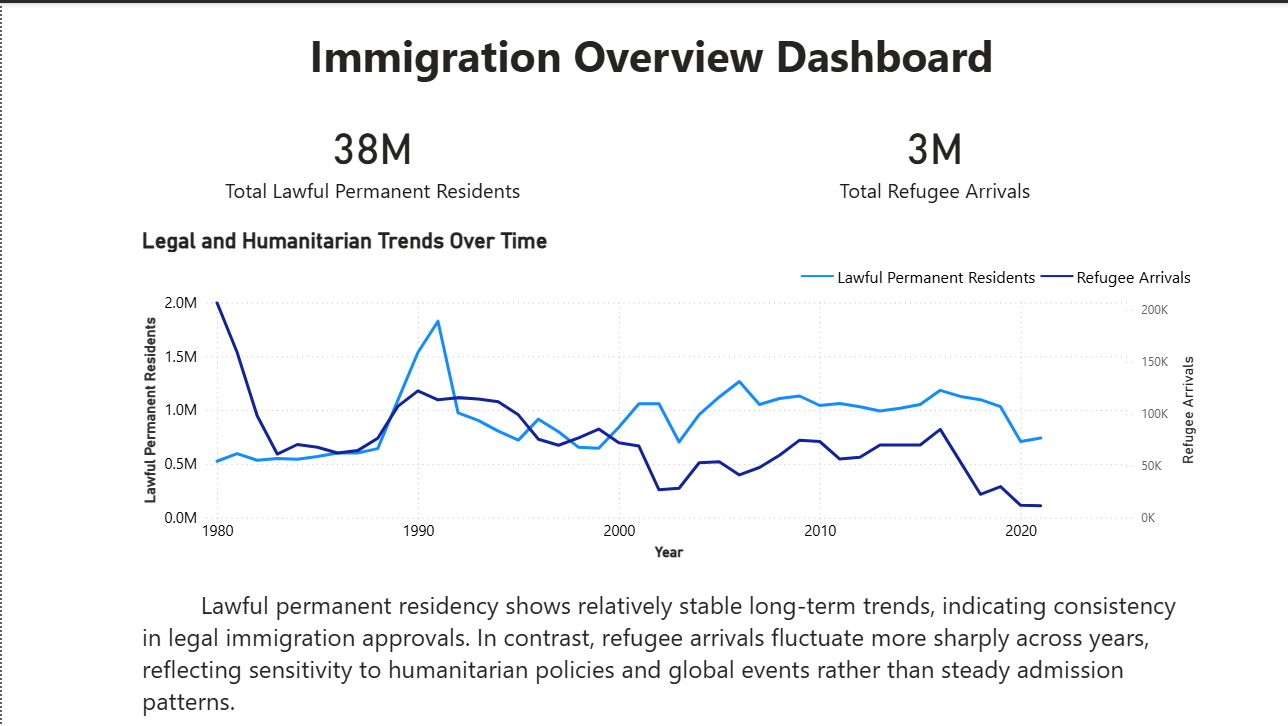

The page's visual inventory and layout, read from the dashboard file:
{"tool":"powerbi","page":{"name":"Immigration Overview","canvas":[1280,720],"ordinal":0},"visuals":[{"type":"card","fields":{"Values":["US Immigration Statistics (Ver 1 7 23).Total Lawful Permanent Residents"]},"box":[134.5,97.4,469.3,112.5],"z":0},{"type":"card","fields":{"Values":["US Immigration Statistics (Ver 1 7 23).Total Refugee Arrivals"]},"box":[695.7,97.4,466.6,112.5],"z":1000},{"type":"lineChart","title":"Legal and Humanitarian Trends Over Time","fields":{"Category":["US Immigration Statistics (Ver 1 7 23).Year"],"Y":["Sum(US Immigration Statistics (Ver 1 7 23).Immigrants Obtaining Lawful Permanent Resident Status)"],"Y2":["Sum(US Immigration Statistics (Ver 1 7 23).Refugee Arrivals)"]},"box":[134.5,223.7,1059.4,336.2],"z":2000},{"type":"textbox","box":[59,17.8,1176,79.6],"z":3000},{"type":"textbox","box":[134.3,559.7,1058.3,160.9],"z":4000}]}

Visuals, with their boxes in screenshot pixels (x1, y1, x2, y2), scaled from the page's 1280x720 canvas onto the 1288x726 screenshot:
card - US Immigration Statistics (Ver 1 7 23).Total Lawful Permanent Residents: 135, 98, 608, 212
card - US Immigration Statistics (Ver 1 7 23).Total Refugee Arrivals: 700, 98, 1170, 212
"Legal and Humanitarian Trends Over Time" lineChart: 135, 226, 1201, 565
textbox: 59, 18, 1243, 98
textbox: 135, 564, 1200, 725
